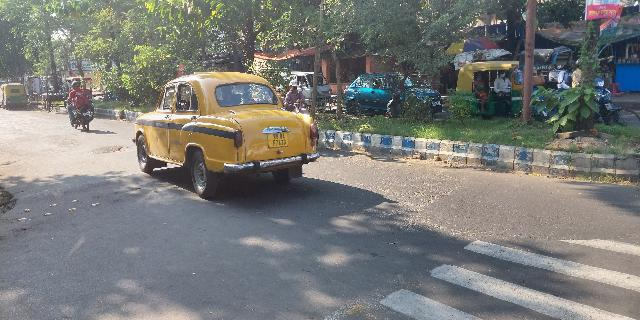Car: (132, 68, 320, 197)
Motorbike: (59, 76, 97, 132)
